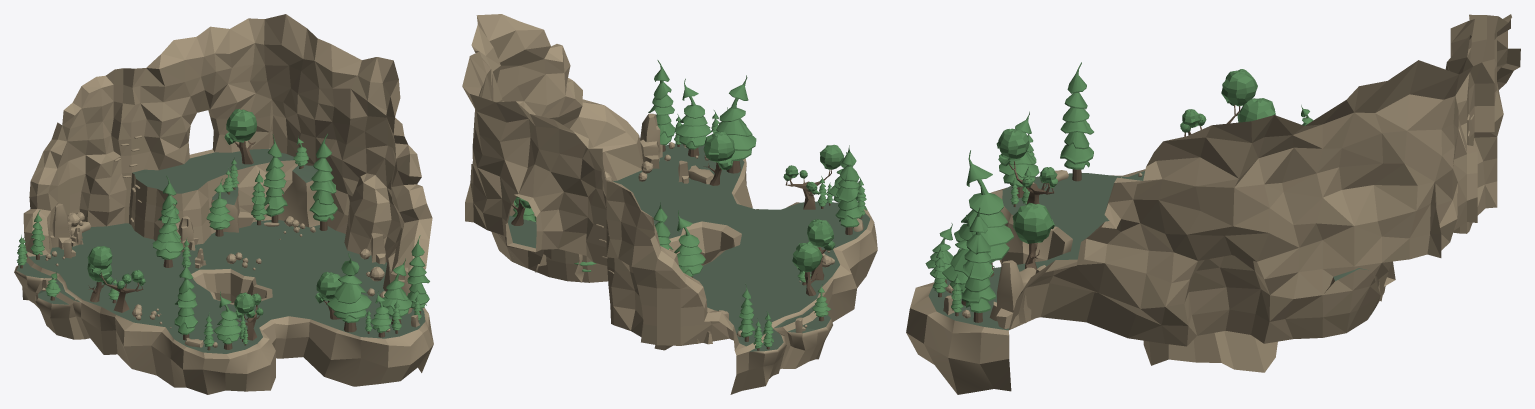
Rendered from tutorial_test_terrain.fbx.
The picture shows the model from 3 angles, left to right: view 1: azimuth 30°, elevation 25°; view 2: azimuth 150°, elevation 25°; view 3: azimuth 270°, elevation 25°; orthographic projection. The views are drawn at different scales.
Visible parts, largest first — view 1: terrain, trees, rocks; view 2: terrain, trees, rocks; view 3: terrain, trees, rocks.
Boxes of the visible parts, x1,y1,x2,y2 form: terrain: [14, 14, 433, 394]; trees: [16, 109, 429, 350]; rocks: [41, 203, 419, 347]; terrain: [462, 14, 877, 394]; trees: [511, 60, 866, 350]; rocks: [605, 113, 863, 344]; terrain: [906, 14, 1520, 394]; trees: [925, 62, 1313, 322]; rocks: [943, 170, 1142, 329].
Size of the model in its own units: 2101 by 1607 by 2288.
